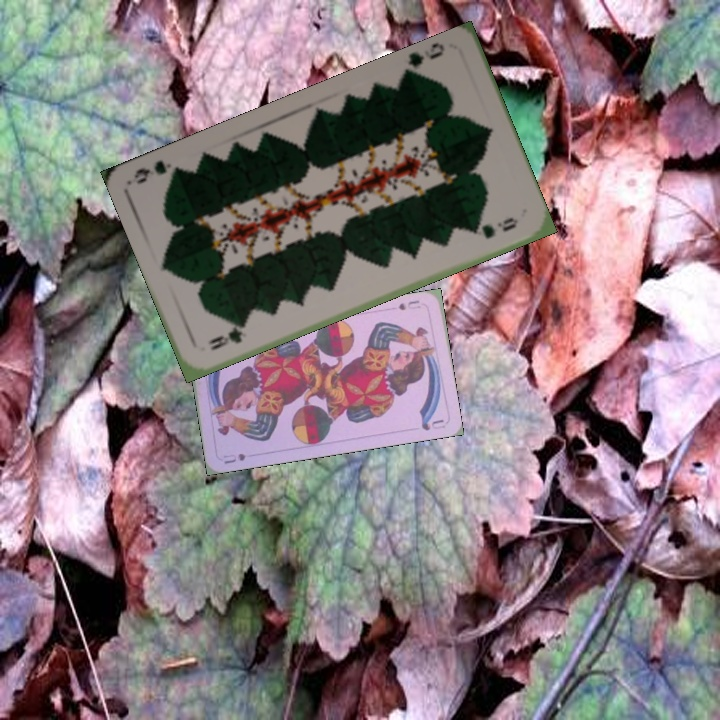G9: (400, 40, 447, 78), (203, 321, 249, 353)
SU: (219, 449, 248, 466), (394, 296, 423, 313)
